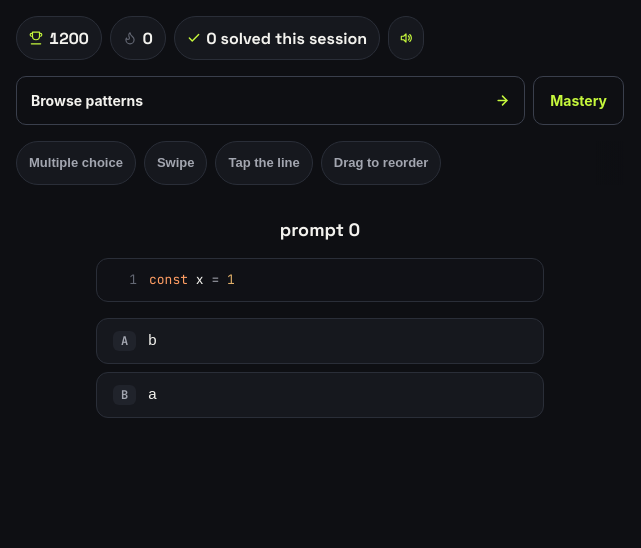
Test: PracticePage › clears the share menu on Continue — it must not persist under the next, unanswered puzzle
Expected: the text "prompt 0" is shown, [280,218,360,241]
Click the button "B a" at (125, 395), box [96,372,544,418]
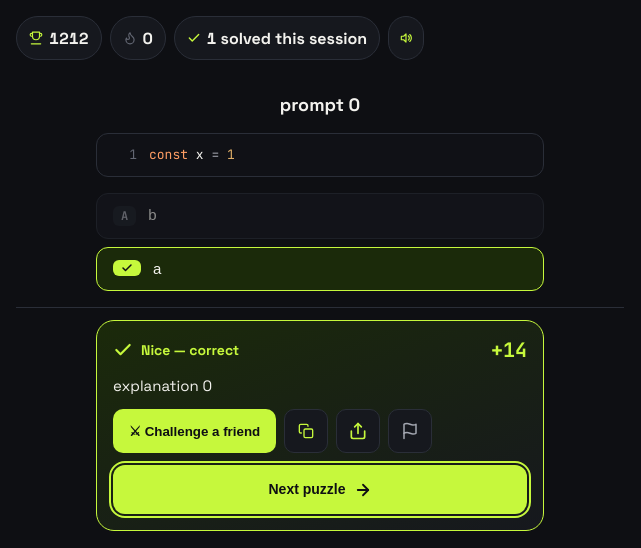
Expected: the button named "Share" is shown, [336,409,380,453]
Click the button "Next puzzle" at (320, 490), box [113,465,527,514]
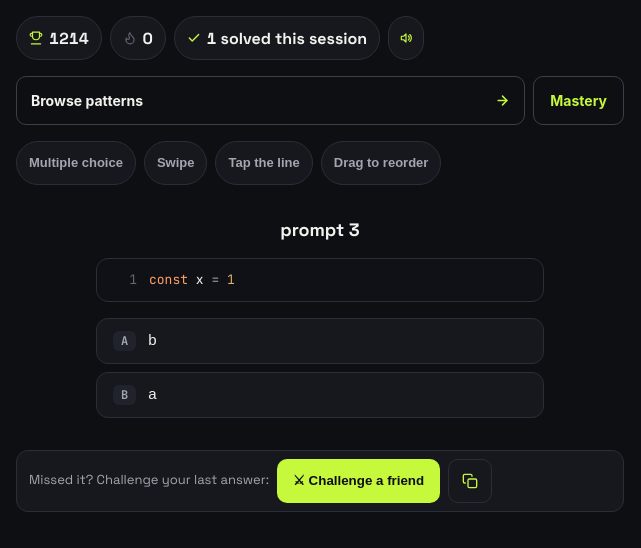
Expected: the button "Share" is gone
